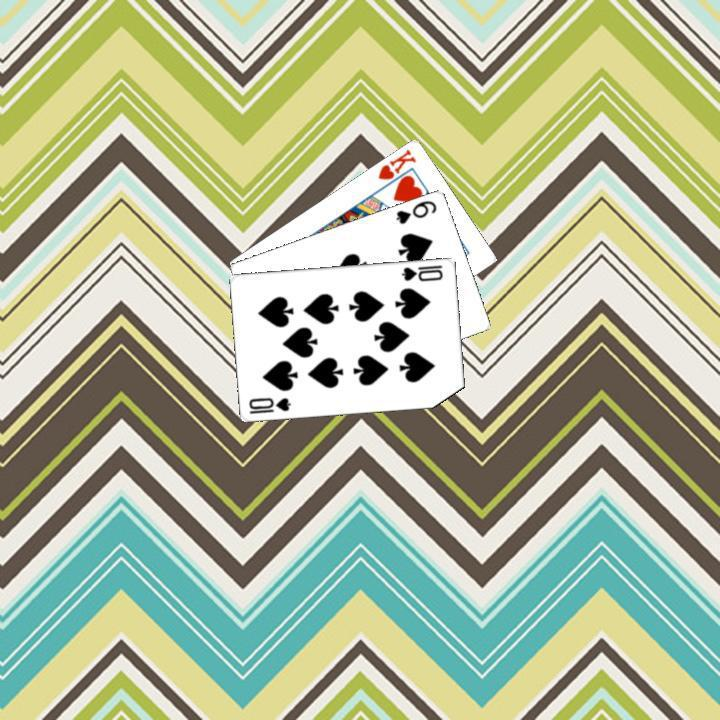10: (397, 260, 445, 283), (245, 393, 293, 415)
6: (392, 196, 439, 226)
K: (373, 144, 418, 182)
